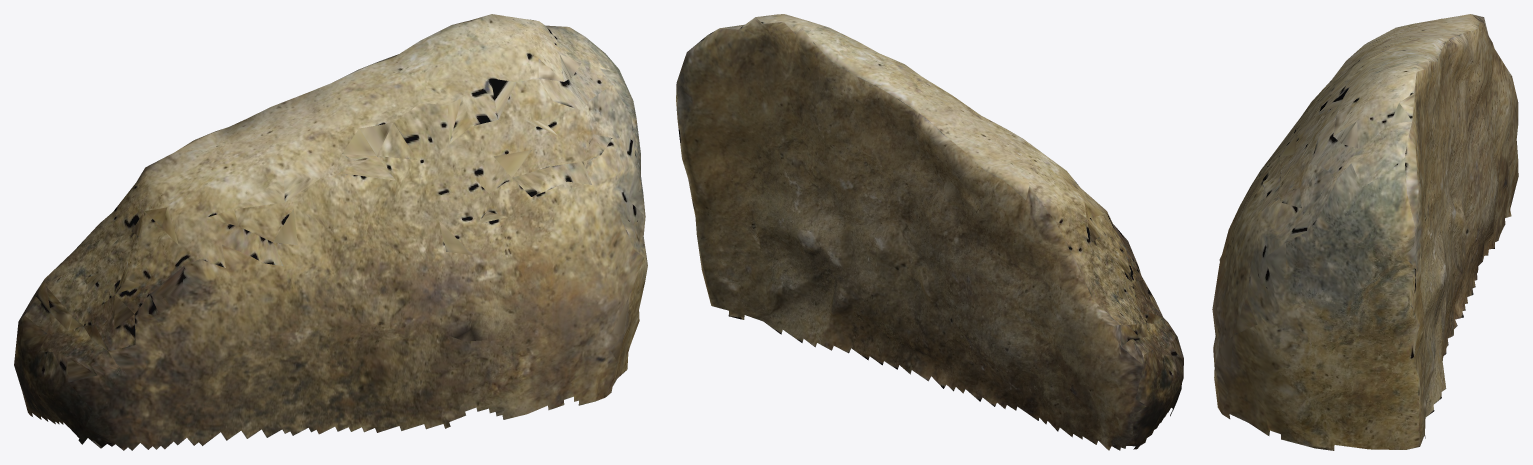
3 views of the same model, side by side, from view 1: azimuth 30°, elevation 25°; view 2: azimuth 150°, elevation 25°; view 3: azimuth 270°, elevation 25° (orthographic). The views are drawn at different scales.
Visible parts, largest first — view 1: Little rock; view 2: Little rock; view 3: Little rock.
Part boxes in pixels (x1,y1,x2,y2): Little rock: [14, 14, 647, 450]; Little rock: [676, 14, 1183, 450]; Little rock: [1212, 14, 1518, 450].
Size of the model in its own units: 1.38 by 0.7877 by 0.6305.
Materials: 1 (1 with a texture image).
